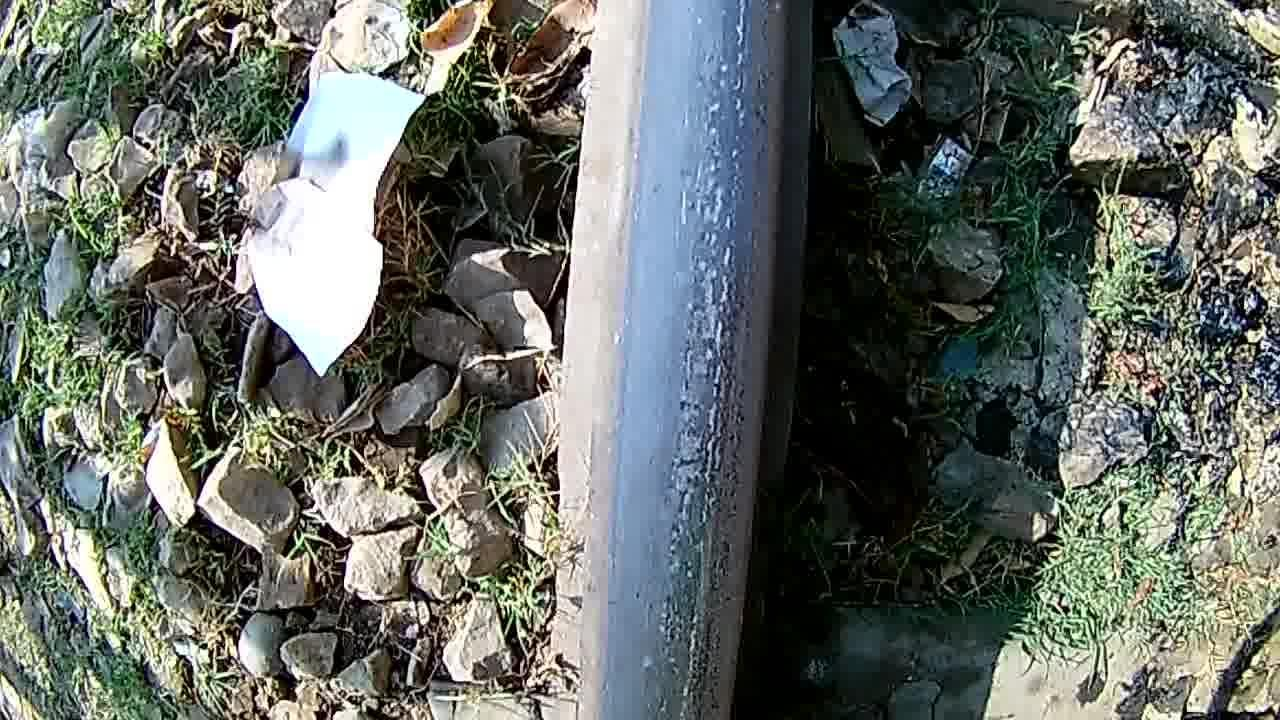crack: (621, 0, 778, 720)
